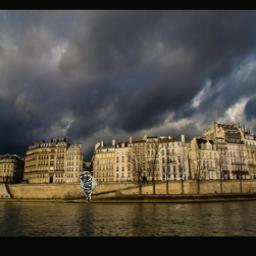Woodpecker: (79, 171, 101, 204)
